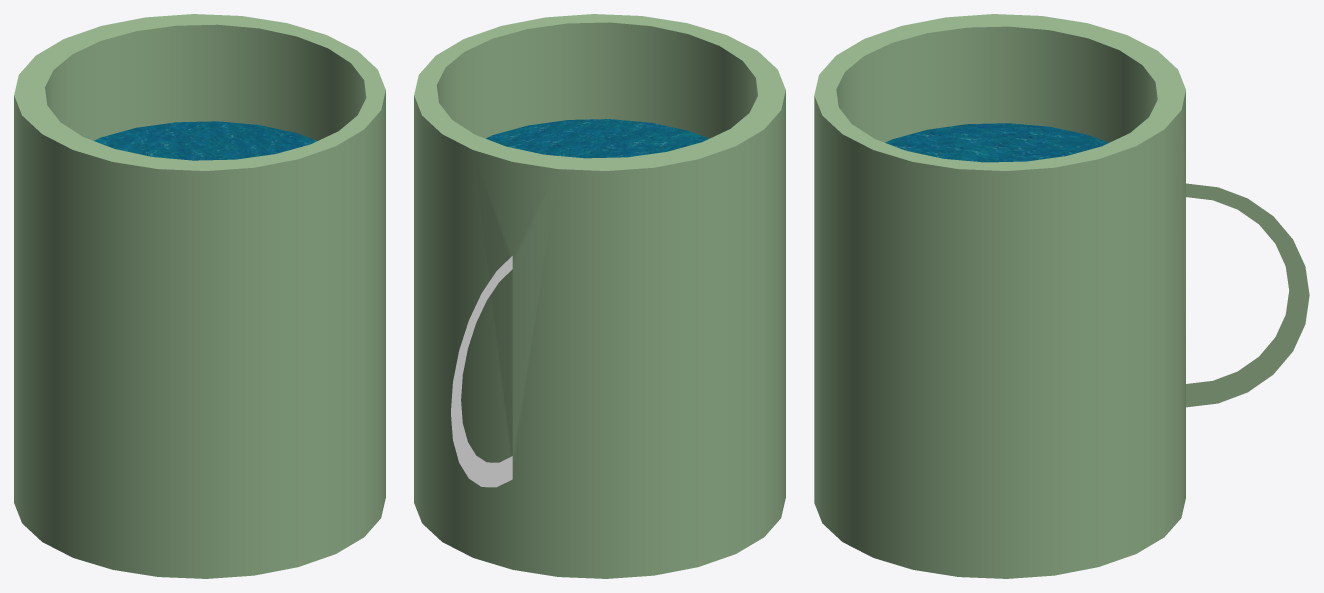
The picture shows the model from 3 angles, left to right: view 1: azimuth 30°, elevation 25°; view 2: azimuth 150°, elevation 25°; view 3: azimuth 270°, elevation 25°; orthographic projection.
Parts seen in each view (by area): view 1: mesh1_mesh1-geometry_1, mesh1_mesh1-geometry_2; view 2: mesh1_mesh1-geometry_1, mesh1_mesh1-geometry_2, mesh1_mesh1-geometry; view 3: mesh1_mesh1-geometry_1, mesh1_mesh1-geometry_2.
Boxes of the visible parts, bbox=[...] form: mesh1_mesh1-geometry_1: bbox=[14, 14, 385, 578]; mesh1_mesh1-geometry_2: bbox=[94, 121, 317, 160]; mesh1_mesh1-geometry_1: bbox=[414, 14, 785, 578]; mesh1_mesh1-geometry_2: bbox=[486, 119, 708, 158]; mesh1_mesh1-geometry: bbox=[451, 256, 512, 487]; mesh1_mesh1-geometry_1: bbox=[814, 14, 1309, 578]; mesh1_mesh1-geometry_2: bbox=[885, 123, 1108, 162].
Size of the model in its own units: 0.4856 by 0.5879 by 0.647.
Materials: 3 (1 with a texture image).
